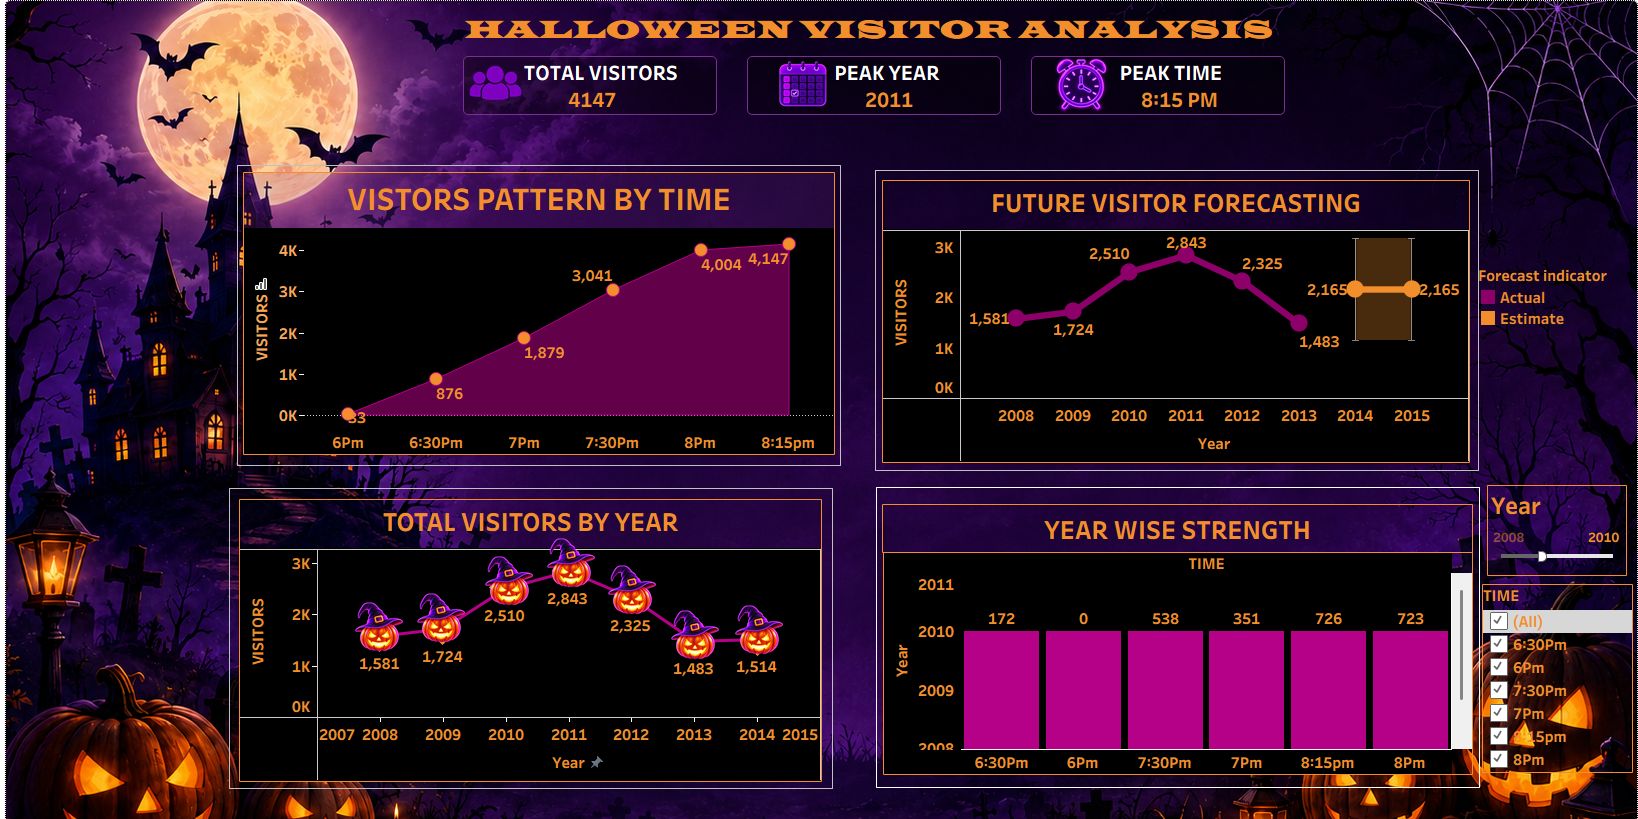

This screenshot's page, from the dashboard's own definition file:
{"tool":"tableau","page":{"name":"Dashboard 1","canvas":[1657,851],"ordinal":0},"visuals":[{"type":"image","param":"C:/Users/bhara/Downloads/ChatGPT Image Aug 29, 2026, 12_03_01 PM.png","box":[8,8,1641,835]},{"type":"text","box":[468,20,834,42]},{"type":"image","param":"C:/Users/bhara/Downloads/ChatGPT Image Aug 29, 2026, 10_26_16 AM.png","box":[1044,66,89,66]},{"type":"image","param":"C:/Users/bhara/Downloads/ChatGPT Image Aug 29, 2026, 10_24_13 AM.png","box":[767,67,106,57]},{"type":"text","box":[470,68,254,59]},{"type":"text","box":[754,68,254,59]},{"type":"text","box":[1038,68,254,59]},{"type":"image","param":"C:/Users/bhara/Downloads/ChatGPT Image Aug 29, 2026, 10_09_54 AM.png","box":[468,72,68,83]},{"type":"worksheet","title":"Sheet 1","mark":"Area","rows":["Pivot Field Values","Pivot Field Values"],"cols":["Pivot Field Names"],"box":[250,184,592,283]},{"type":"worksheet","title":"Sheet 2","mark":"Automatic","rows":["Pivot Field Values","Pivot Field Values"],"cols":["Year"],"box":[889,192,588,283]},{"type":"legend","title":"Sheet 2","param":"[federated.093p1jg08lqngf14decfl1bpza2t].[none:Forecast Indicator:nk]","box":[1485,277,157,71]},{"type":"filter","title":"Sheet 4","param":"[federated.093p1jg08lqngf14decfl1bpza2t].[none:Year:qk]","box":[1494,497,140,91]},{"type":"worksheet","title":"Sheet 3","mark":"Line","rows":["Pivot Field Values","Pivot Field Values"],"cols":["Year"],"box":[246,511,583,283]},{"type":"text","box":[889,516,591,49]},{"type":"image","param":"C:/Users/bhara/AppData/Local/Temp/TableauTemp/17jgger1dax52f1h4pke505cwyg4/Sheet","box":[549,550,92,52]},{"type":"worksheet","title":"Sheet 4","mark":"Bar","rows":["Year"],"cols":["Pivot Field Names"],"box":[890,564,590,223]},{"type":"image","param":"C:/Users/bhara/AppData/Local/Temp/TableauTemp/17jgger1dax52f1h4pke505cwyg4/Sheet","box":[487,568,92,52]},{"type":"image","param":"C:/Users/bhara/AppData/Local/Temp/TableauTemp/17jgger1dax52f1h4pke505cwyg4/Sheet","box":[610,577,92,52]},{"type":"filter","title":"Sheet 4","param":"[federated.093p1jg08lqngf14decfl1bpza2t].[none:Pivot Field Names:nk]","box":[1489,596,160,189]},{"type":"image","param":"C:/Users/bhara/AppData/Local/Temp/TableauTemp/17jgger1dax52f1h4pke505cwyg4/Sheet","box":[419,605,92,52]},{"type":"image","param":"C:/Users/bhara/Downloads/ChatGPT Image Aug 29, 2026, 05_52_33 PM.png","box":[357,614,92,52]},{"type":"image","param":"C:/Users/bhara/AppData/Local/Temp/TableauTemp/17jgger1dax52f1h4pke505cwyg4/Sheet","box":[737,617,92,52]},{"type":"image","param":"C:/Users/bhara/AppData/Local/Temp/TableauTemp/17jgger1dax52f1h4pke505cwyg4/Sheet","box":[673,622,92,52]}]}

Visuals, with their boxes in screenshot pixels (x1, y1, x2, y2), scaled from the page's 1657x851 canvas onto the 1638x819 screenshot:
image: {"x1": 8, "y1": 8, "x2": 1630, "y2": 811}
text: {"x1": 463, "y1": 19, "x2": 1287, "y2": 60}
image: {"x1": 1032, "y1": 64, "x2": 1120, "y2": 127}
image: {"x1": 758, "y1": 64, "x2": 863, "y2": 119}
text: {"x1": 465, "y1": 65, "x2": 716, "y2": 122}
text: {"x1": 745, "y1": 65, "x2": 996, "y2": 122}
text: {"x1": 1026, "y1": 65, "x2": 1277, "y2": 122}
image: {"x1": 463, "y1": 69, "x2": 530, "y2": 149}
"Sheet 1" worksheet (Area marks): {"x1": 247, "y1": 177, "x2": 832, "y2": 449}
"Sheet 2" worksheet: {"x1": 879, "y1": 185, "x2": 1460, "y2": 457}
"Sheet 2" legend: {"x1": 1468, "y1": 267, "x2": 1623, "y2": 335}
"Sheet 4" filter: {"x1": 1477, "y1": 478, "x2": 1615, "y2": 566}
"Sheet 3" worksheet (Line marks): {"x1": 243, "y1": 492, "x2": 819, "y2": 764}
text: {"x1": 879, "y1": 497, "x2": 1463, "y2": 544}
image: {"x1": 543, "y1": 529, "x2": 634, "y2": 579}
"Sheet 4" worksheet (Bar marks): {"x1": 880, "y1": 543, "x2": 1463, "y2": 757}
image: {"x1": 481, "y1": 547, "x2": 572, "y2": 597}
image: {"x1": 603, "y1": 555, "x2": 694, "y2": 605}
"Sheet 4" filter: {"x1": 1472, "y1": 574, "x2": 1630, "y2": 755}
image: {"x1": 414, "y1": 582, "x2": 505, "y2": 632}
image: {"x1": 353, "y1": 591, "x2": 444, "y2": 641}
image: {"x1": 729, "y1": 594, "x2": 819, "y2": 644}
image: {"x1": 665, "y1": 599, "x2": 756, "y2": 649}
